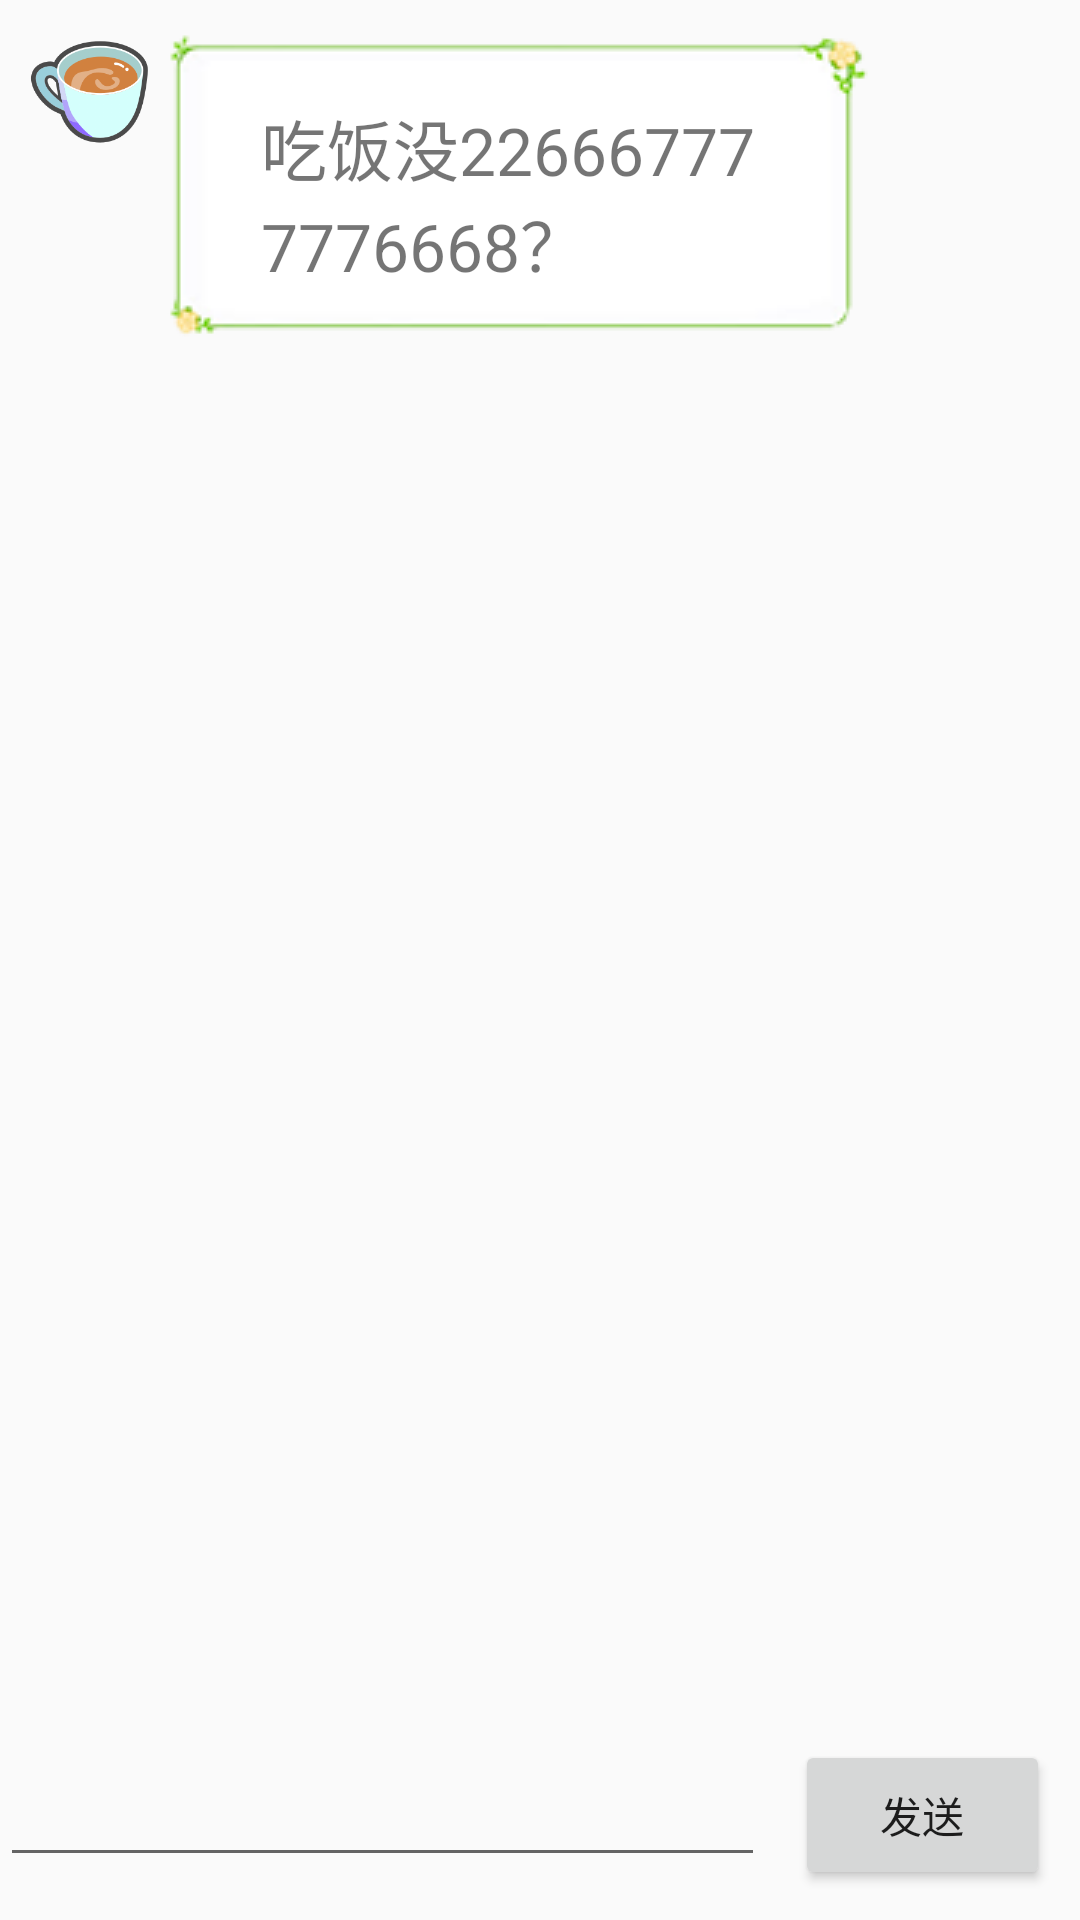

Named icons in this screenshot (1080×1920) and their centers, (x=x, y=y):
coffee: (x=89, y=92)
